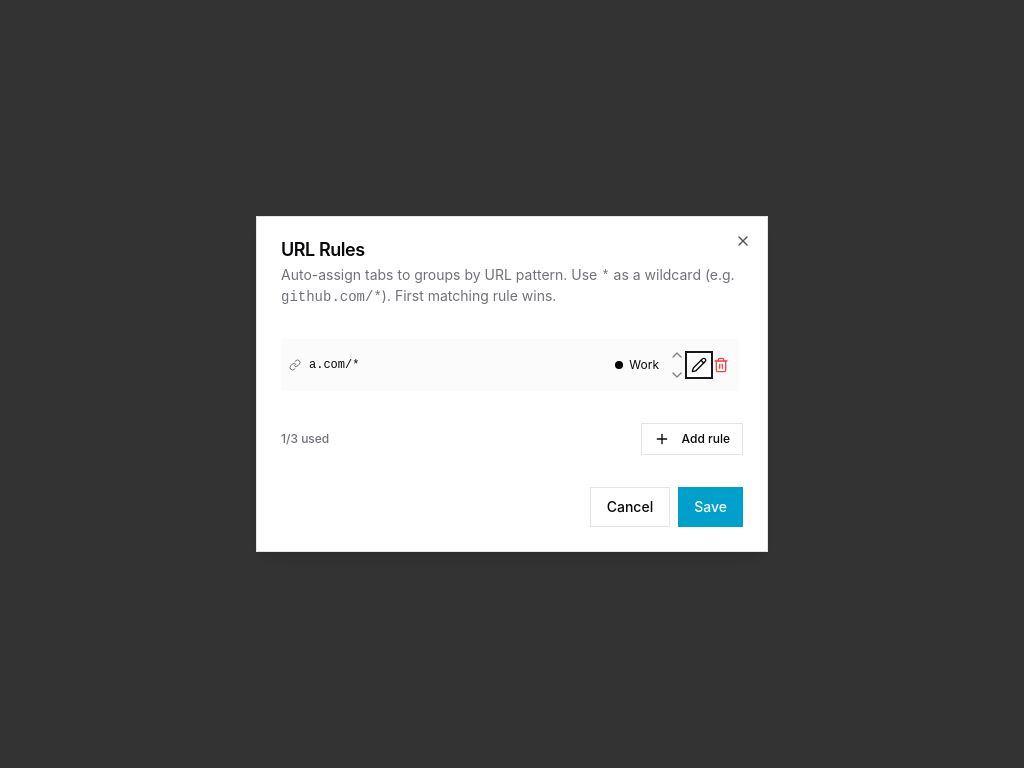
Test: UrlRulesModal — editing rules › Save updates the draft (not persisted) and closes the edit modal
Step 1. Click the button named "edit rule" → (699, 365), box [689,355,709,375]
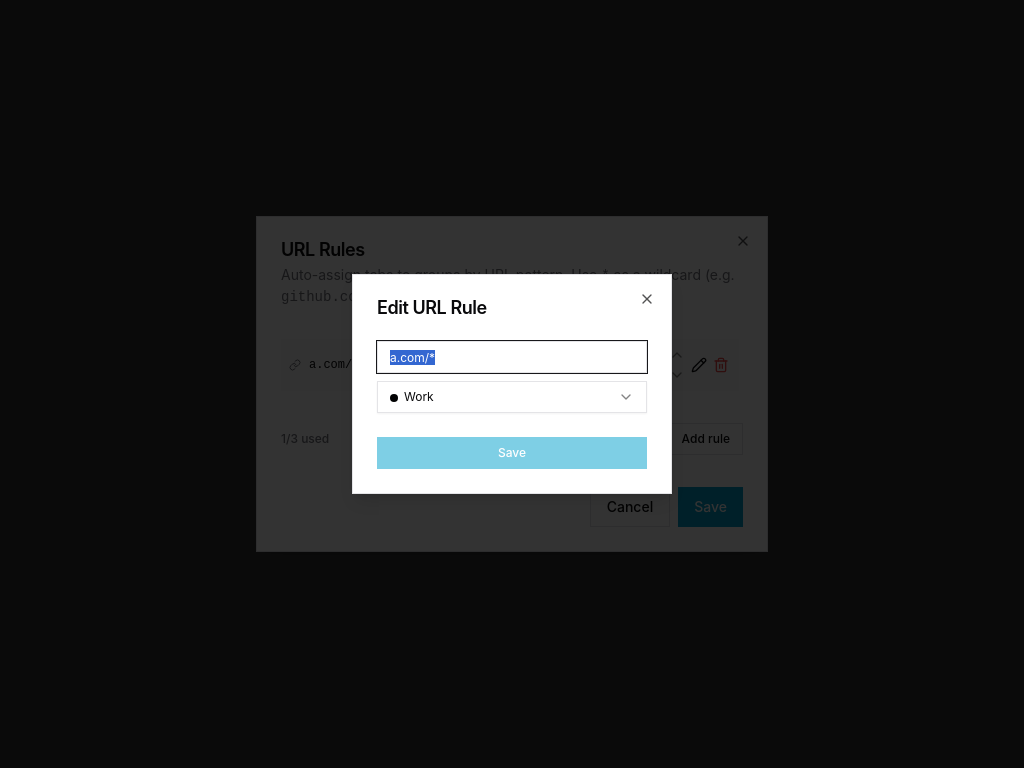
Step 2. Replace the text in the field with placeholder "Pattern, e.g. github.com/*" with "b.com/*" → (512, 357), box [377,341,647,373]
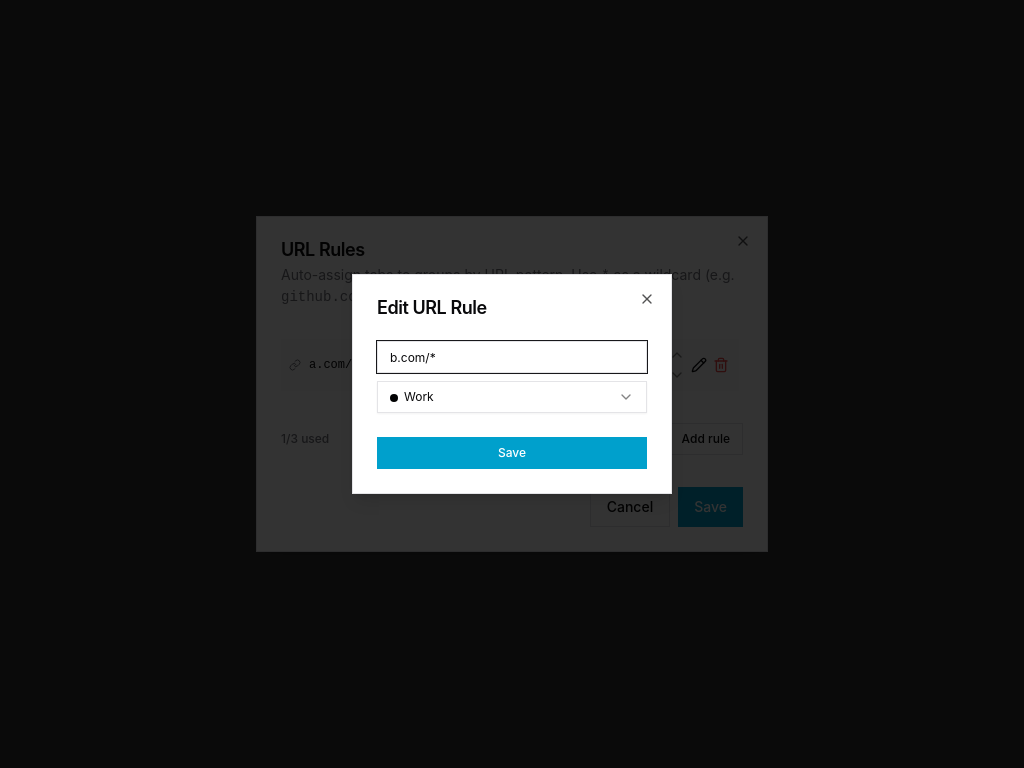
Step 3. Click the button "Save" → (512, 453), box [377,437,647,469]
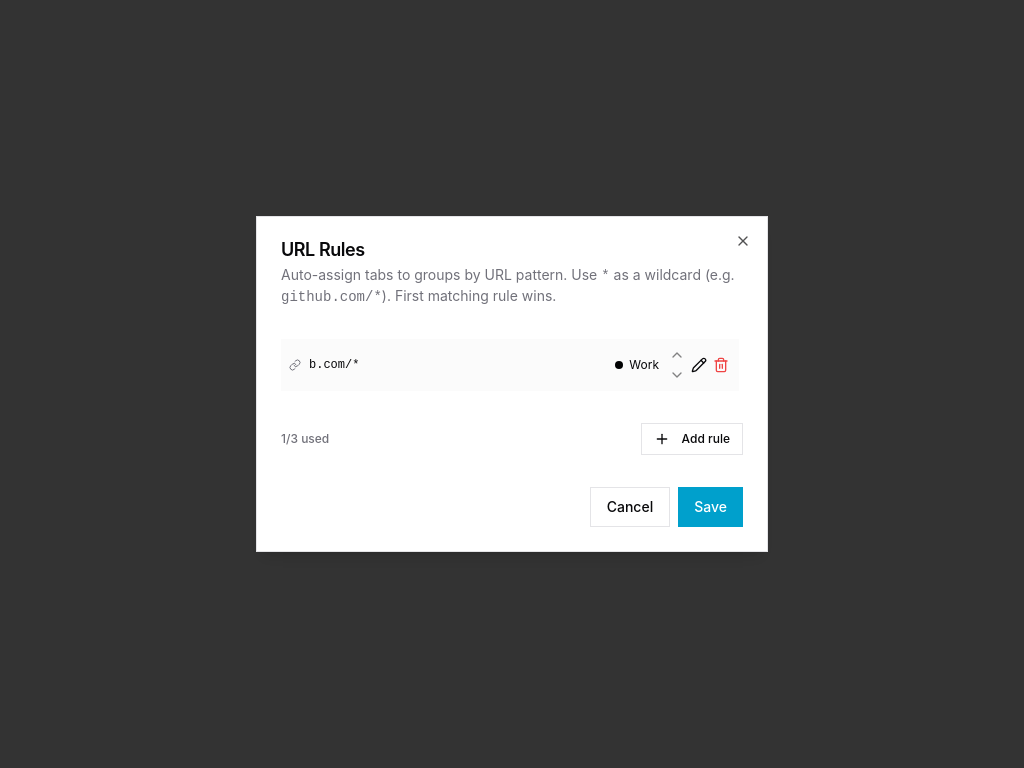
Expected: the text titled "b.com/*" is shown, [309,358,359,372]
Expected: the heading "Edit URL Rule" is gone
